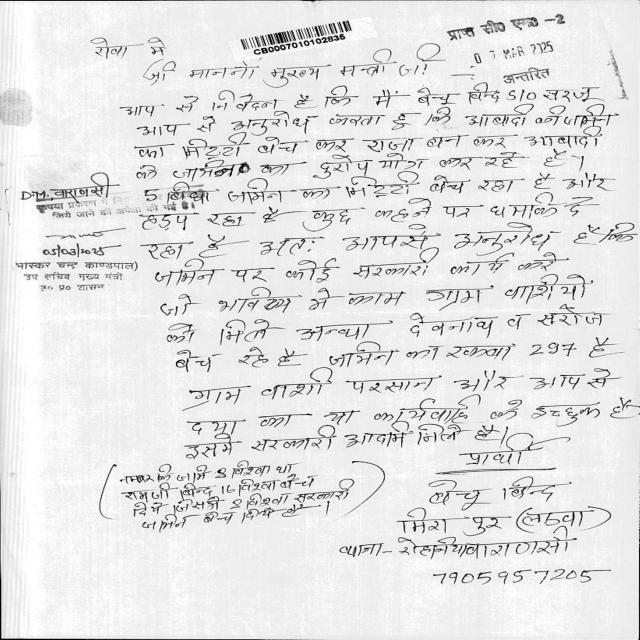antritgovtstamp: (444, 14, 580, 86)
barcode: (230, 19, 366, 56)
signnamestamp: (14, 233, 147, 302)
